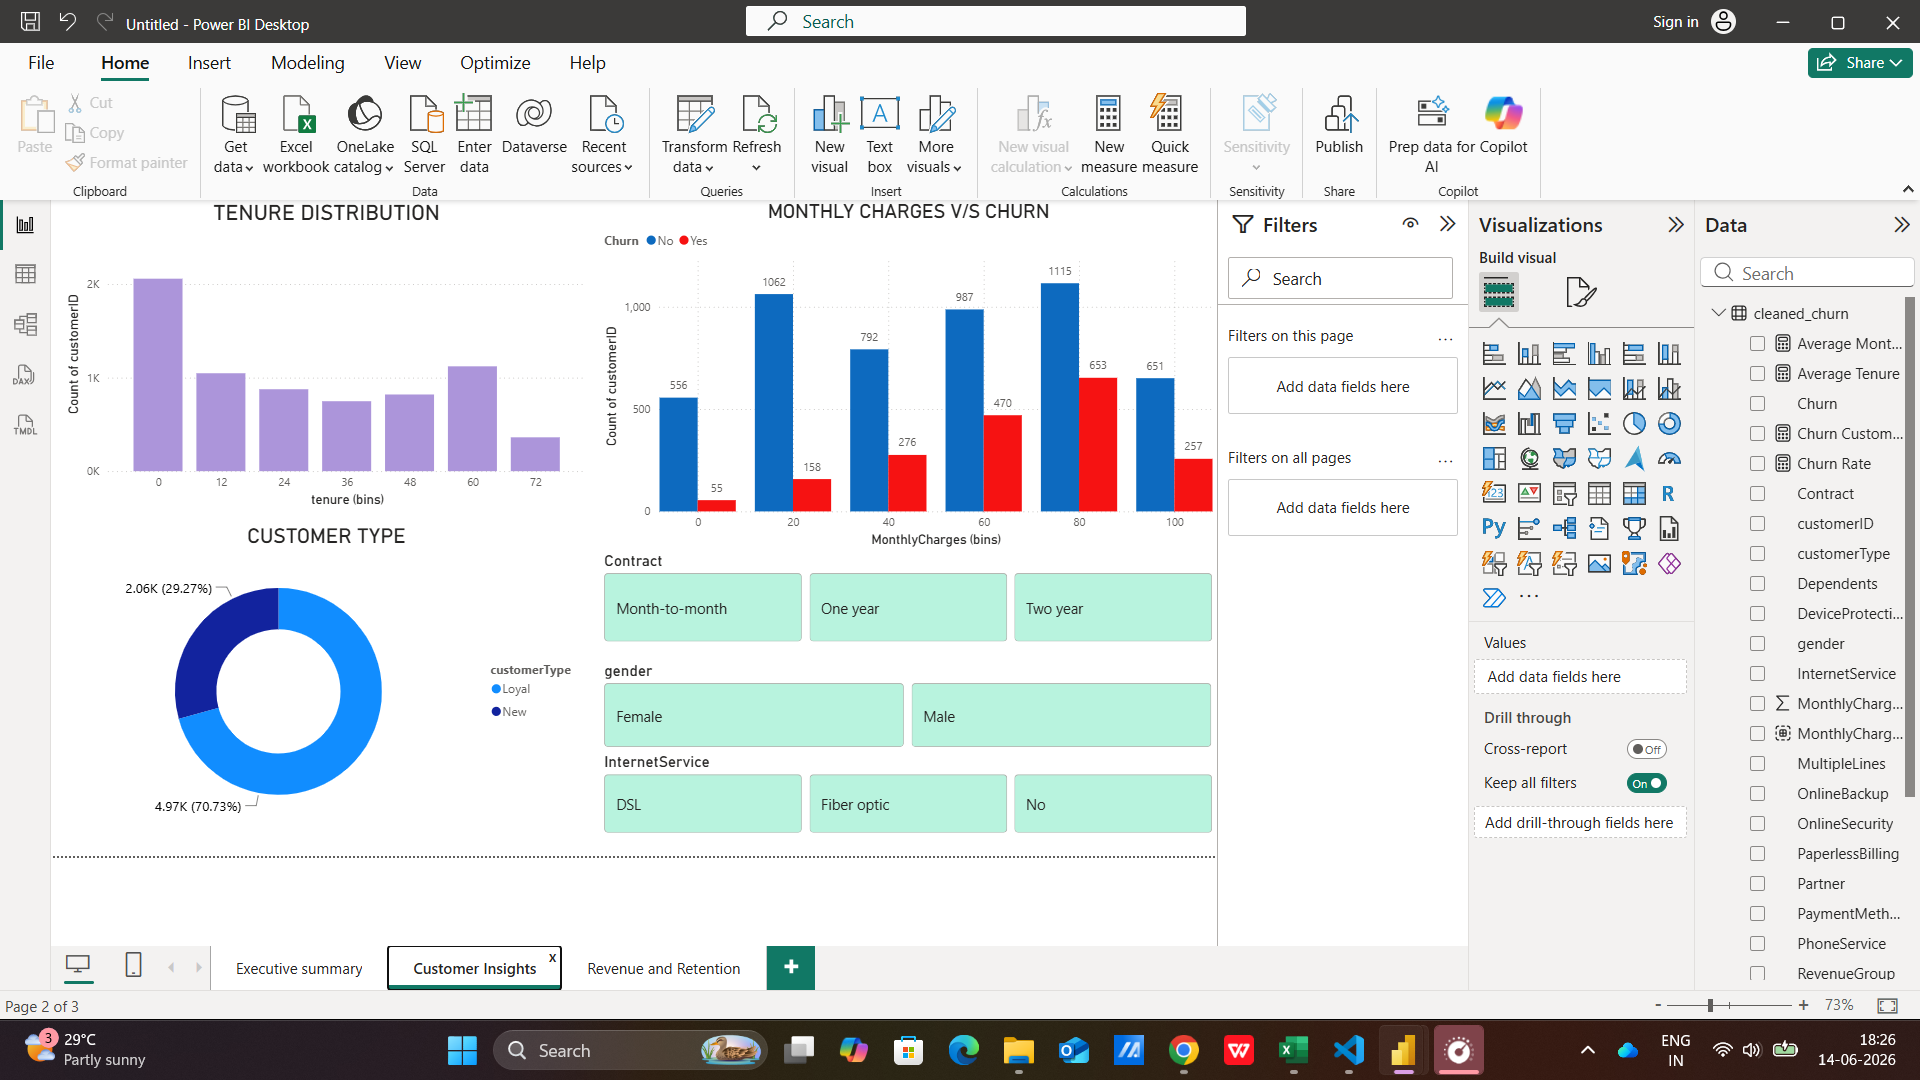

This screenshot's page, from the dashboard's own definition file:
{"tool":"powerbi","page":{"name":"Customer Insights","canvas":[1280,720],"ordinal":1},"visuals":[{"type":"clusteredColumnChart","title":"TENURE DISTRIBUTION","fields":{"Category":["cleaned_churn.tenure (bins)"],"Y":["CountNonNull(cleaned_churn.customerID)"]},"box":[12.3,0,580.4,341.7],"z":0},{"type":"clusteredColumnChart","title":"MONTHLY CHARGES V/S CHURN","fields":{"Category":["cleaned_churn.MonthlyCharges (bins)"],"Y":["CountNonNull(cleaned_churn.customerID)"],"Series":["cleaned_churn.Churn"]},"box":[602.4,0,677.9,385.6],"z":1},{"type":"donutChart","title":"CUSTOMER TYPE","fields":{"Category":["cleaned_churn.customerType"],"Y":["CountNonNull(cleaned_churn.customerID)"]},"box":[12,355,580,342],"z":2},{"type":"advancedSlicerVisual","fields":{"Values":["cleaned_churn.Contract"]},"box":[602.4,385.6,677.9,104.3],"z":3},{"type":"advancedSlicerVisual","fields":{"Values":["cleaned_churn.gender"]},"box":[602.4,506.3,677.9,100.2],"z":4},{"type":"advancedSlicerVisual","fields":{"Values":["cleaned_churn.InternetService"]},"box":[602.4,606.5,677.9,93.3],"z":5}]}

Visuals, with their boxes on the page's 1280x720 design canvas (x1, y1, x2, y2). These are canvas units, not pixel positions in the 1920x1080 screenshot, which may show the page scaled, cropped or inside an application window:
"TENURE DISTRIBUTION" clusteredColumnChart: [left=12, top=0, right=593, bottom=342]
"MONTHLY CHARGES V/S CHURN" clusteredColumnChart: [left=602, top=0, right=1280, bottom=386]
"CUSTOMER TYPE" donutChart: [left=12, top=355, right=592, bottom=697]
advancedSlicerVisual - cleaned_churn.Contract: [left=602, top=386, right=1280, bottom=490]
advancedSlicerVisual - cleaned_churn.gender: [left=602, top=506, right=1280, bottom=606]
advancedSlicerVisual - cleaned_churn.InternetService: [left=602, top=606, right=1280, bottom=700]
